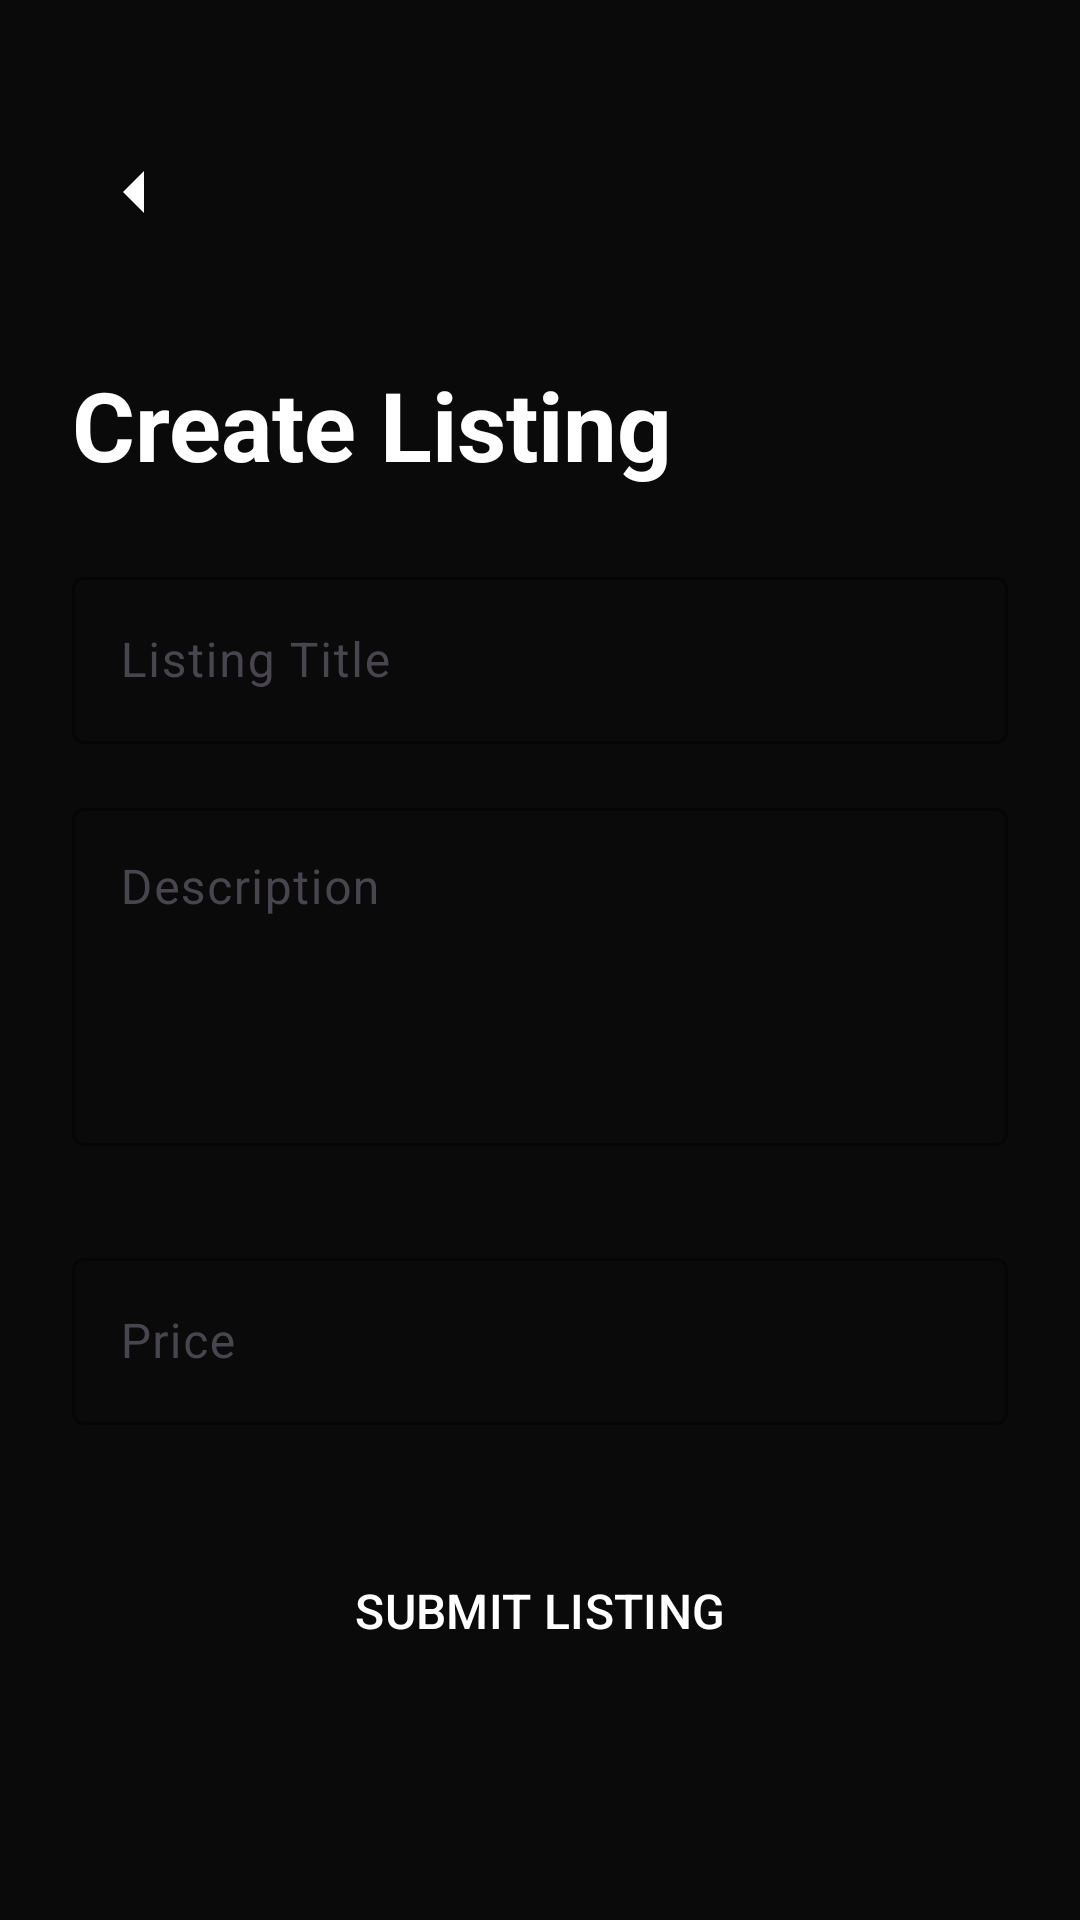

Icon bounding boxes for this 1080px x 1920px phone screenshot, format (x1, y1, x2, y2):
arrow left: (123, 171, 144, 213)
